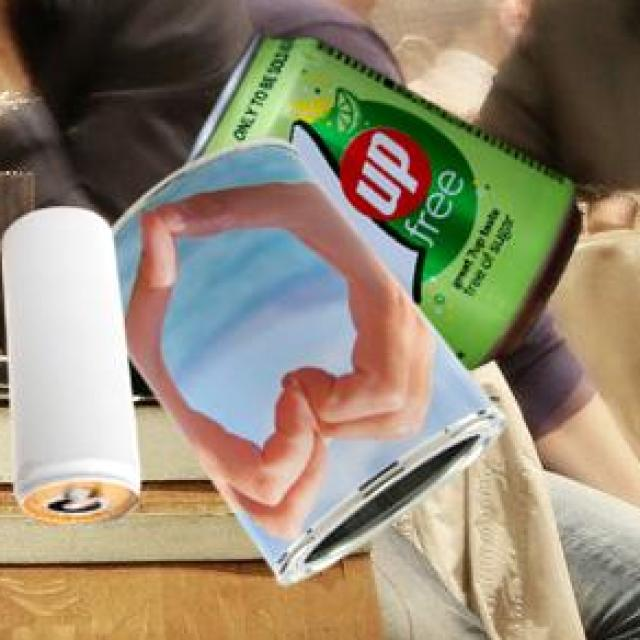logam: (108, 135, 503, 582), (181, 27, 578, 367), (0, 205, 137, 523)
